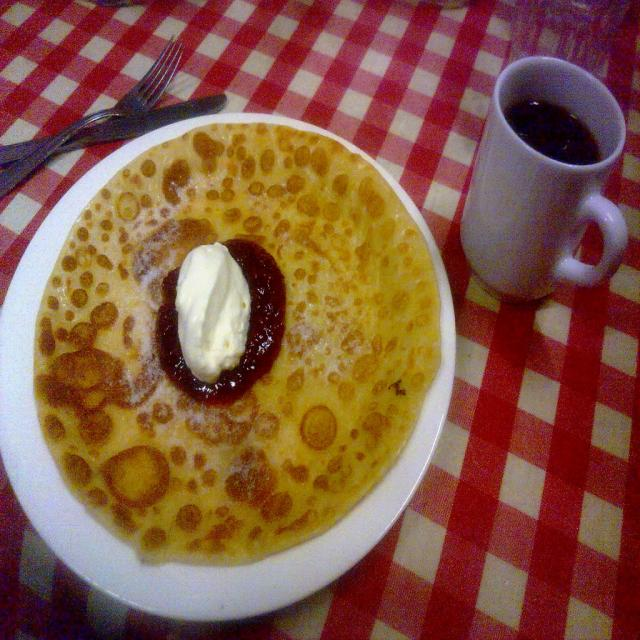Coffee: (502, 99, 600, 167)
Tea: (504, 101, 604, 162)
